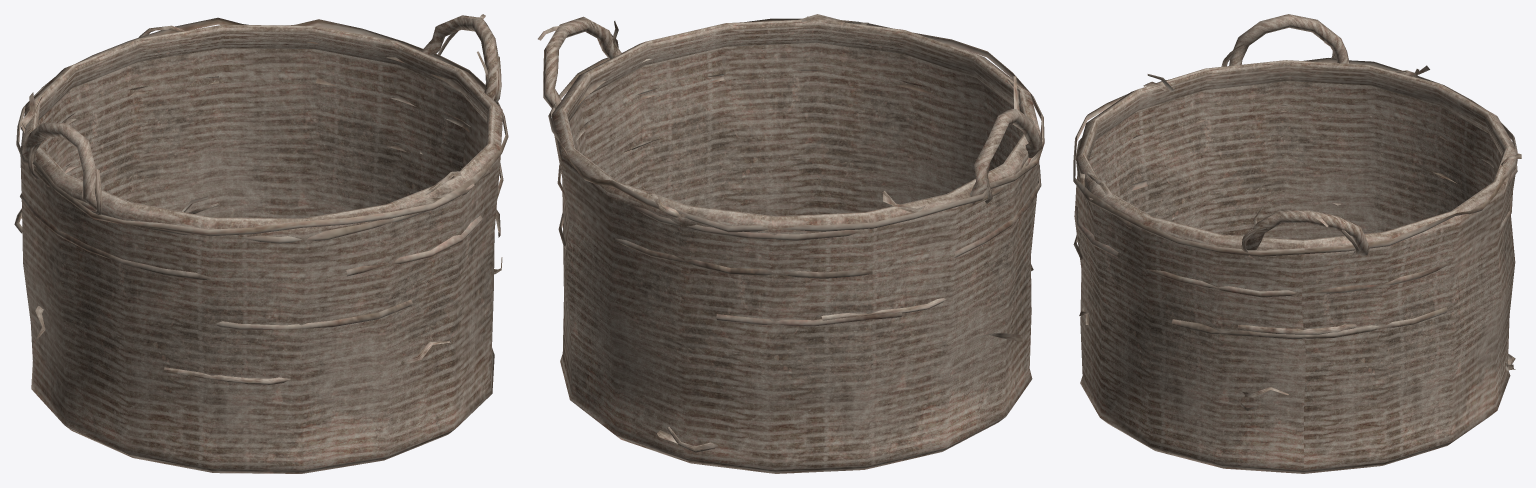
Rendered from basket_farm.glb.
3 views of the same model, side by side, from view 1: azimuth 30°, elevation 25°; view 2: azimuth 150°, elevation 25°; view 3: azimuth 270°, elevation 25° (orthographic). The views are drawn at different scales.
Visible parts, largest first — view 1: basket_Wicker_0; view 2: basket_Wicker_0; view 3: basket_Wicker_0.
Part boxes in pixels (x1=…): basket_Wicker_0: x1=14, y1=14, x2=508, y2=473; basket_Wicker_0: x1=538, y1=14, x2=1044, y2=473; basket_Wicker_0: x1=1073, y1=14, x2=1521, y2=473.
Size of the model in its own units: 0.5931 by 0.3781 by 0.5406.
Materials: 1 (1 with a texture image).
